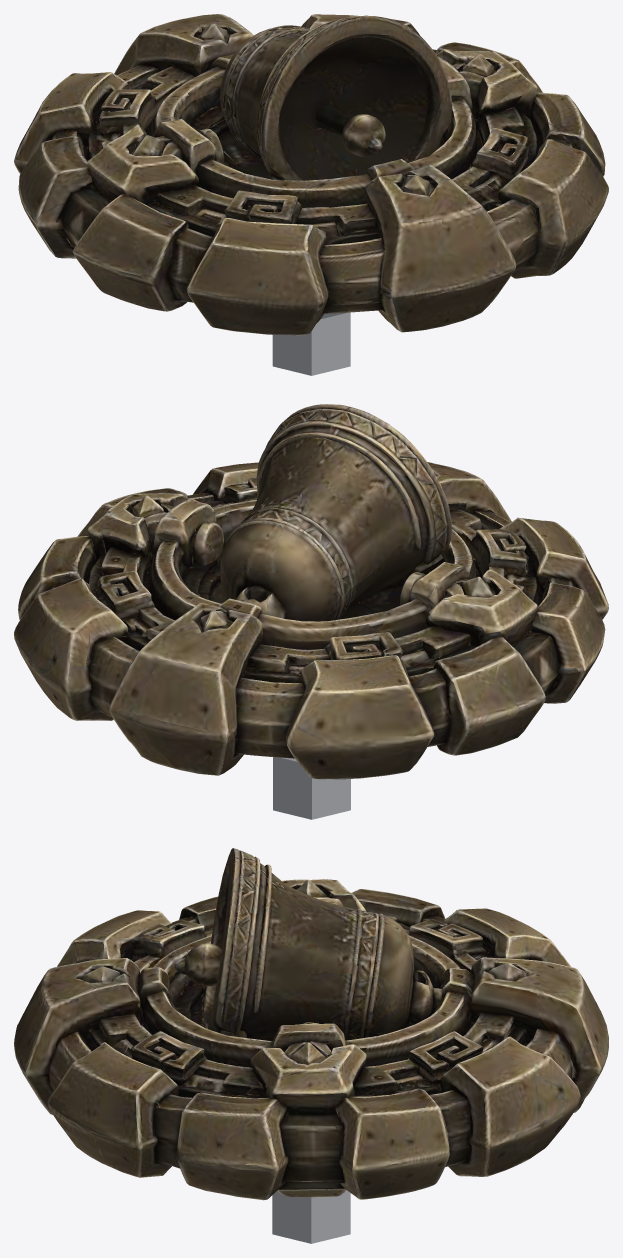
The model's file is bell.glb.
The picture shows the model from 3 angles, top to bottom: view 1: azimuth 30°, elevation 25°; view 2: azimuth 150°, elevation 25°; view 3: azimuth 270°, elevation 25°; orthographic projection.
Parts seen in each view (by area): view 1: mesh_node; view 2: mesh_node; view 3: mesh_node.
Boxes of the visible parts, <box> form: mesh_node: <box>14,14,608,375</box>; mesh_node: <box>14,404,608,819</box>; mesh_node: <box>14,848,608,1243</box>.
Bounding box in the file's own units: 19.7 × 11.03 × 19.76.
2 materials, 1 textured.
